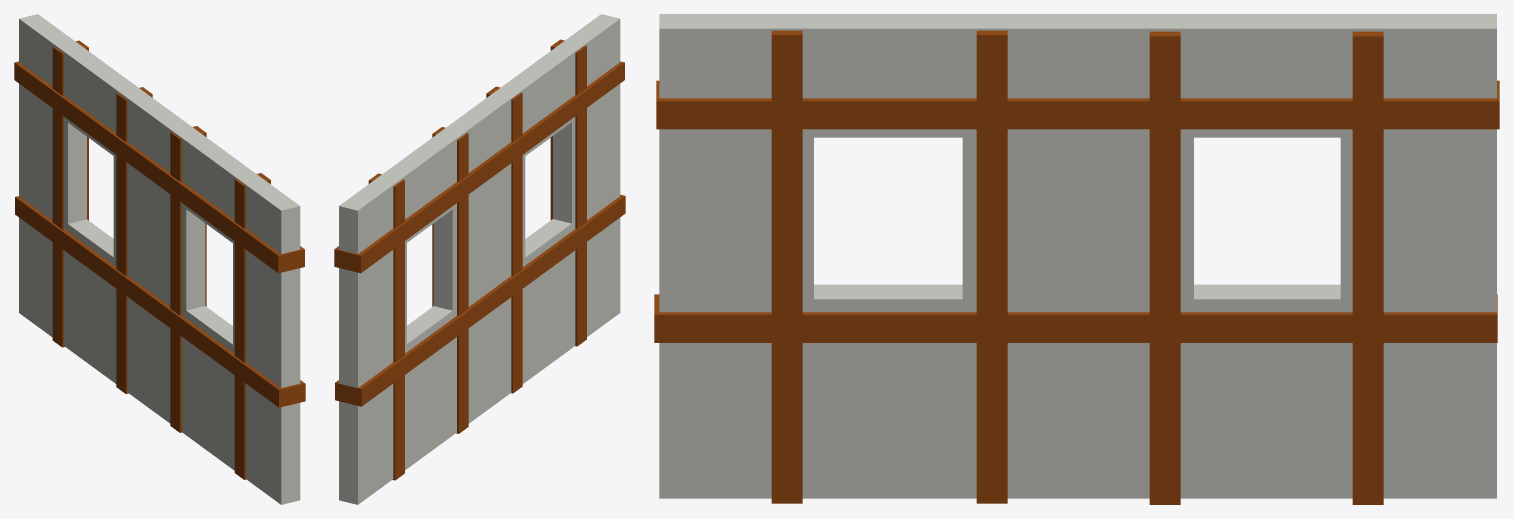
Rendered from DoubleWindowWall1.fbx.
3 renders of one model, left to right at view 1: azimuth 30°, elevation 25°; view 2: azimuth 150°, elevation 25°; view 3: azimuth 270°, elevation 25°, orthographic. The views are drawn at different scales.
Visible parts, largest first — view 1: DoubleWindowWall1; view 2: DoubleWindowWall1; view 3: DoubleWindowWall1.
Part boxes in pixels (bbox=[...]): DoubleWindowWall1: bbox=[14, 14, 305, 504]; DoubleWindowWall1: bbox=[334, 14, 625, 504]; DoubleWindowWall1: bbox=[654, 14, 1499, 504].
Size of the model in its own units: 113 by 1115 by 1810.
